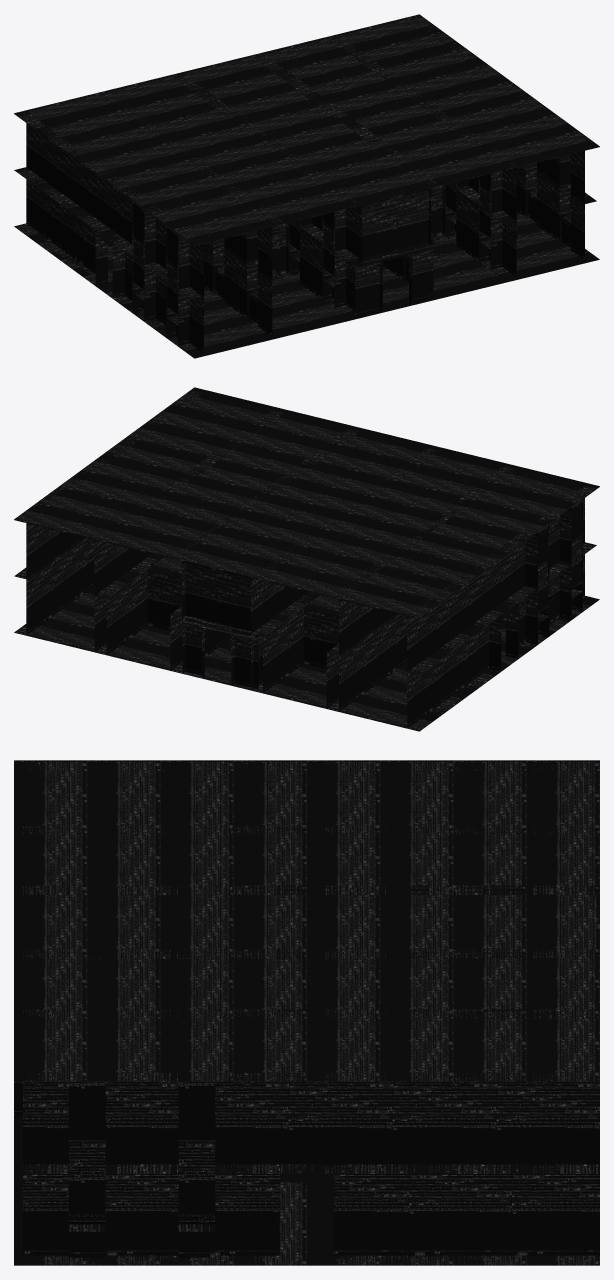
The model's file is room2storage_opt.obj.
3 renders of one model, top to bottom at view 1: azimuth 30°, elevation 25°; view 2: azimuth 150°, elevation 25°; view 3: azimuth 270°, elevation 25°, orthographic. The views are drawn at different scales.
Bounding box in the file's own units: 2656 × 709 × 2048.
